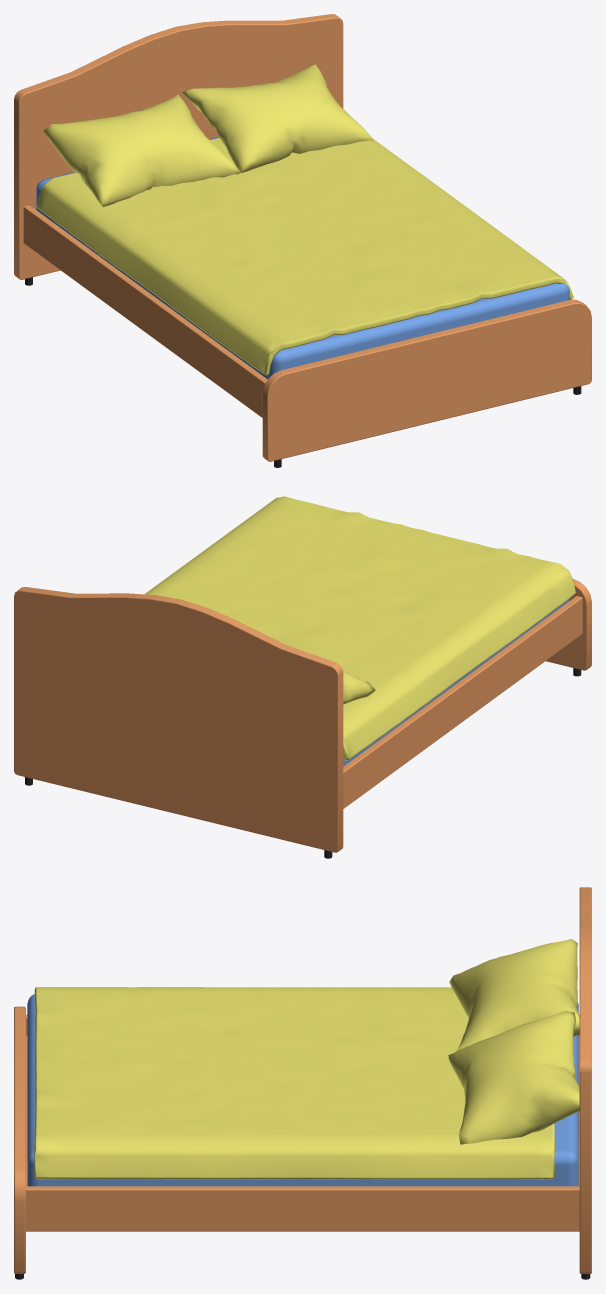
File: HAUGA.fbx
3 views of the same model, one above another, from view 1: azimuth 30°, elevation 25°; view 2: azimuth 150°, elevation 25°; view 3: azimuth 270°, elevation 25° (orthographic). The views are drawn at different scales.
Parts seen in each view (by area): view 1: Plane.001, Cube.001, Cube.017, Cube.002, Cube.008, Cube.016, Cube.018; view 2: Cube.017, Plane.001, Cube.016, Cube.001, Cube.002, Cube.018; view 3: Plane.001, Cube.016, Cube.008, Cube.002, Cube.018, Cube.017, Cube.001.
Boxes of the visible parts, x1=… form: Plane.001: x1=37, y1=138, x2=573, y2=375; Cube.001: x1=262, y1=299, x2=591, y2=461; Cube.017: x1=14, y1=14, x2=343, y2=279; Cube.002: x1=43, y1=94, x2=240, y2=207; Cube.008: x1=182, y1=64, x2=373, y2=173; Cube.016: x1=23, y1=205, x2=267, y2=417; Cube.018: x1=36, y1=136, x2=569, y2=379; Cube.017: x1=14, y1=587, x2=343, y2=852; Plane.001: x1=145, y1=496, x2=575, y2=760; Cube.016: x1=343, y1=596, x2=582, y2=808; Cube.001: x1=546, y1=579, x2=591, y2=670; Cube.002: x1=343, y1=670, x2=375, y2=704; Cube.018: x1=343, y1=599, x2=569, y2=766; Plane.001: x1=34, y1=987, x2=554, y2=1179; Cube.016: x1=26, y1=1014, x2=579, y2=1231; Cube.008: x1=448, y1=1010, x2=579, y2=1144; Cube.002: x1=449, y1=939, x2=579, y2=1050; Cube.018: x1=27, y1=994, x2=578, y2=1186; Cube.017: x1=579, y1=887, x2=591, y2=1273; Cube.001: x1=14, y1=1006, x2=25, y2=1273.
Size of the model in its own units: 153 by 99 by 208.
